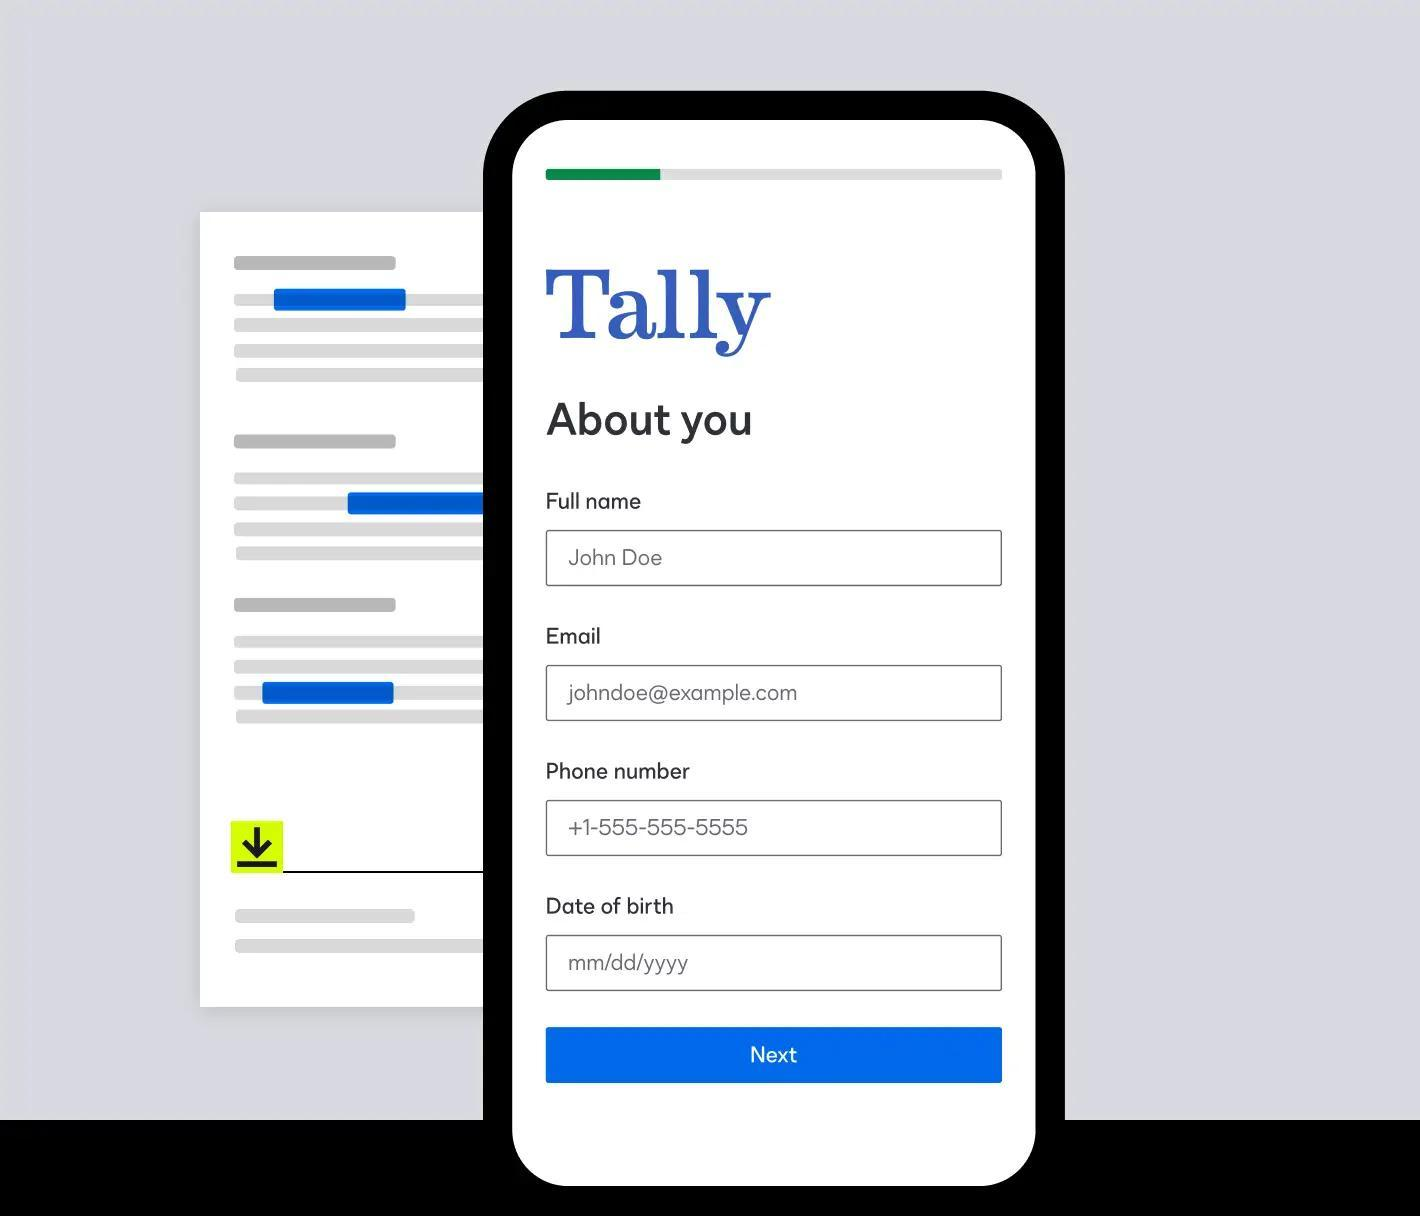button: (547, 1030, 1005, 1085)
input: (547, 934, 1000, 993), (545, 666, 1000, 723), (549, 533, 1003, 587), (547, 802, 1000, 857)
label: (534, 752, 705, 793), (536, 479, 658, 530), (537, 894, 684, 923), (542, 619, 610, 660)
